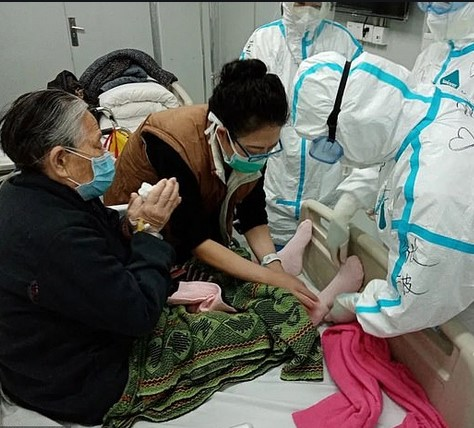face_with_mask: (205, 77, 289, 180), (40, 87, 118, 195), (418, 2, 471, 48), (274, 0, 330, 35)
